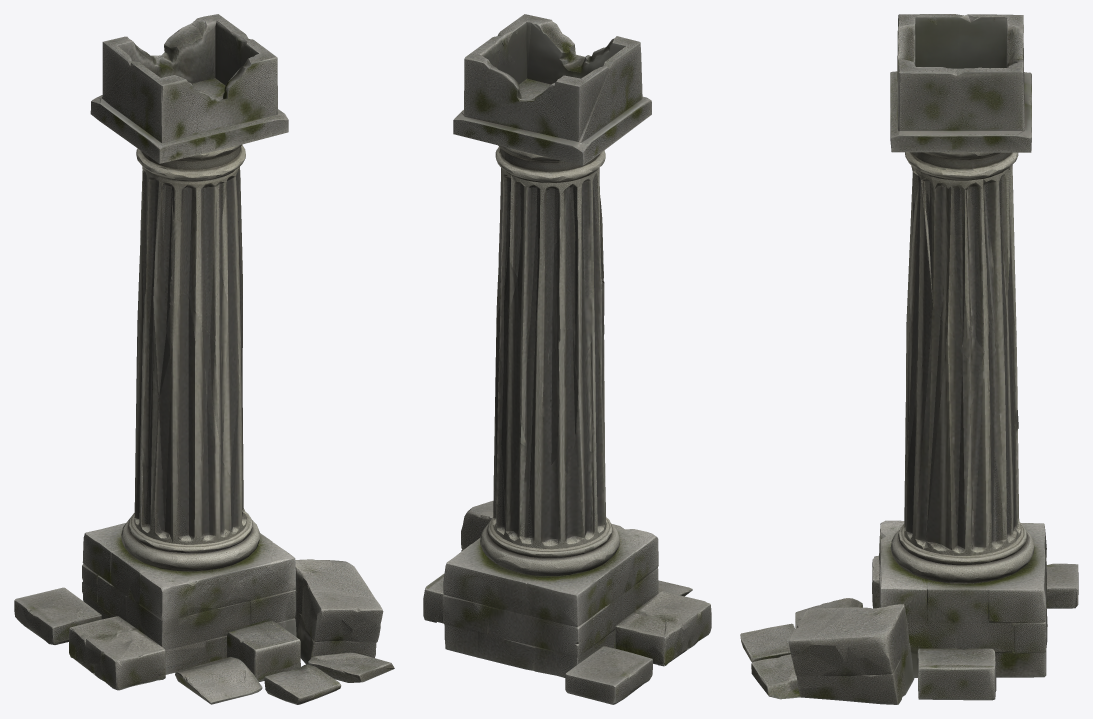
File: pillar.glb
The picture shows the model from 3 angles, left to right: view 1: azimuth 30°, elevation 25°; view 2: azimuth 150°, elevation 25°; view 3: azimuth 270°, elevation 25°; orthographic projection. The views are drawn at different scales.
Bounding box in the file's own units: 0.8413 × 1.9 × 0.9701.
Materials: 1 (1 with a texture image).
